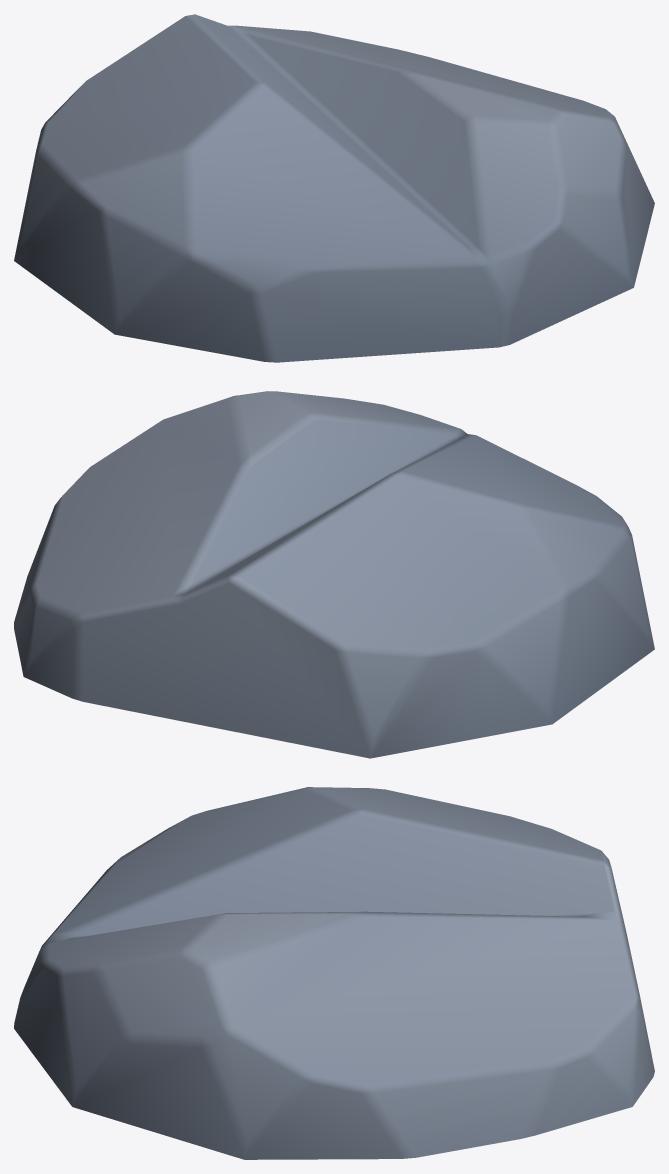
The model's file is Stone_02_lvl.fbx.
3 renders of one model, top to bottom at view 1: azimuth 30°, elevation 25°; view 2: azimuth 150°, elevation 25°; view 3: azimuth 270°, elevation 25°, orthographic. The views are drawn at different scales.
Visible parts, largest first — view 1: Icosphere.019; view 2: Icosphere.019; view 3: Icosphere.019.
Boxes of the visible parts, x1,y1,x2,y2 form: Icosphere.019: [14, 14, 654, 362]; Icosphere.019: [14, 391, 654, 758]; Icosphere.019: [14, 787, 654, 1159].
Bounding box in the file's own units: 126 × 36.62 × 123.
